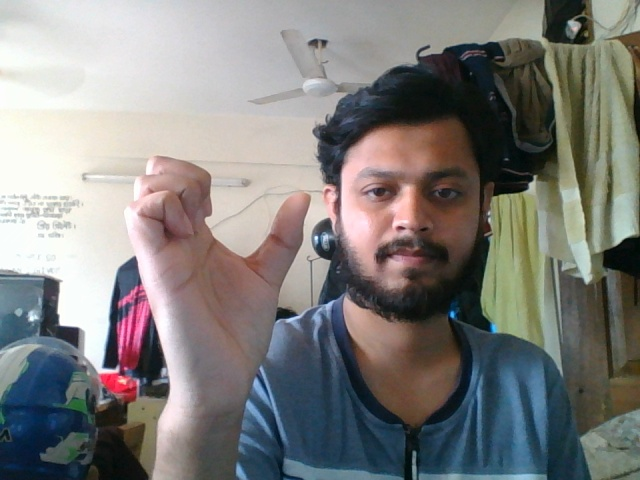kha: (114, 148, 320, 385)
